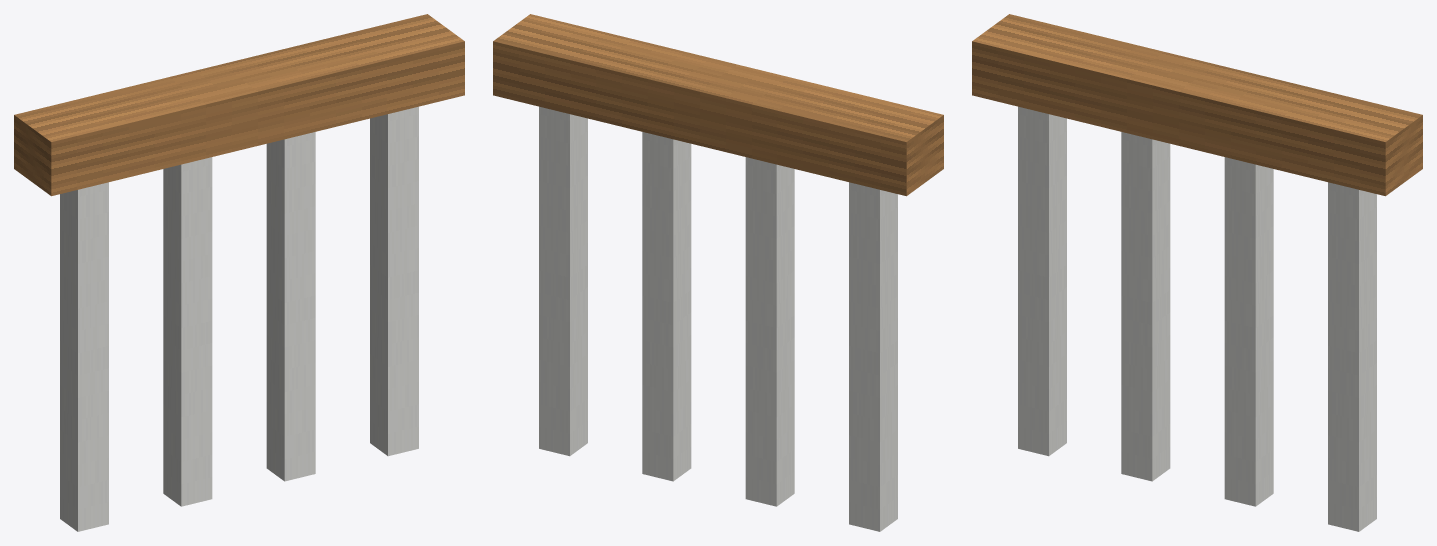
The model's file is level.obj.
The picture shows the model from 3 angles, left to right: view 1: azimuth 30°, elevation 25°; view 2: azimuth 150°, elevation 25°; view 3: azimuth 330°, elevation 25°; orthographic projection.
Visible parts, largest first — view 1: railing_baluster_oak_level; view 2: railing_baluster_oak_level; view 3: railing_baluster_oak_level.
Boxes of the visible parts, x1=… form: railing_baluster_oak_level: x1=14, y1=14, x2=464, y2=531; railing_baluster_oak_level: x1=493, y1=14, x2=943, y2=531; railing_baluster_oak_level: x1=972, y1=14, x2=1422, y2=531.
Bounding box in the file's own units: 1 × 0.9375 × 0.1562.
